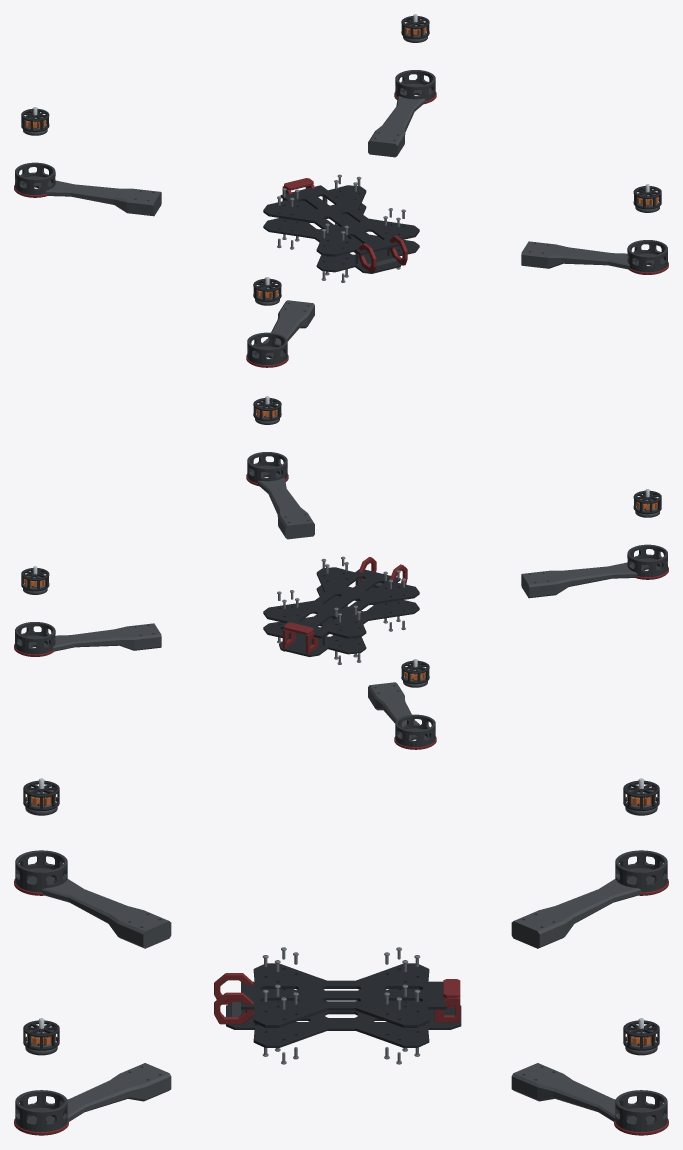
Rendered from aster450_esc_assembly.glb.
3 views of the same model, one above another, from view 1: azimuth 30°, elevation 25°; view 2: azimuth 150°, elevation 25°; view 3: azimuth 270°, elevation 25° (orthographic). The views are drawn at different scales.
Visible parts, largest first — view 1: SmallQuad_TopPlate, SmallQuad_BottomPlate, SmallQuad_Arm_04, SmallQuad_Arm_02, SmallQuad_Arm_03, SmallQuad_Arm_01, SmallQuad_MotorHousing_01, SmallQuad_MotorHousing_02, SmallQuad_MotorHousing_04, SmallQuad_MotorHousing_03; view 2: SmallQuad_TopPlate, SmallQuad_BottomPlate, SmallQuad_Arm_01, SmallQuad_Arm_03, SmallQuad_Arm_02, SmallQuad_Arm_04, SmallQuad_MotorHousing_04, SmallQuad_MotorHousing_03, SmallQuad_MotorHousing_01, SmallQuad_MotorHousing_02; view 3: SmallQuad_TopPlate, SmallQuad_BottomPlate, SmallQuad_Arm_01, SmallQuad_Arm_04, SmallQuad_Arm_02, SmallQuad_Arm_03, SmallQuad_MotorHousing_02, SmallQuad_MotorHousing_03, SmallQuad_MotorHousing_01, SmallQuad_MotorHousing_04, SmallQuad_CameraBracket_Right.
Part boxes in pixels (x1=…): SmallQuad_TopPlate: x1=263, y1=185, x2=419, y2=256; SmallQuad_BottomPlate: x1=263, y1=201, x2=419, y2=273; SmallQuad_Arm_04: x1=45, y1=180, x2=161, y2=216; SmallQuad_Arm_02: x1=521, y1=241, x2=629, y2=269; SmallQuad_Arm_03: x1=368, y1=96, x2=425, y2=157; SmallQuad_Arm_01: x1=263, y1=300, x2=314, y2=344; SmallQuad_MotorHousing_01: x1=247, y1=332, x2=287, y2=367; SmallQuad_MotorHousing_02: x1=627, y1=240, x2=667, y2=274; SmallQuad_MotorHousing_04: x1=15, y1=162, x2=55, y2=197; SmallQuad_MotorHousing_03: x1=395, y1=70, x2=435, y2=100; SmallQuad_TopPlate: x1=263, y1=567, x2=419, y2=638; SmallQuad_BottomPlate: x1=263, y1=585, x2=419, y2=656; SmallQuad_Arm_01: x1=521, y1=562, x2=637, y2=598; SmallQuad_Arm_03: x1=53, y1=623, x2=161, y2=651; SmallQuad_Arm_02: x1=257, y1=478, x2=314, y2=539; SmallQuad_Arm_04: x1=368, y1=682, x2=419, y2=726; SmallQuad_MotorHousing_04: x1=395, y1=714, x2=435, y2=749; SmallQuad_MotorHousing_03: x1=15, y1=622, x2=55, y2=656; SmallQuad_MotorHousing_01: x1=627, y1=544, x2=667, y2=579; SmallQuad_MotorHousing_02: x1=247, y1=452, x2=287, y2=482; SmallQuad_TopPlate: x1=241, y1=963, x2=446, y2=1027; SmallQuad_BottomPlate: x1=226, y1=989, x2=461, y2=1047; SmallQuad_Arm_01: x1=41, y1=878, x2=171, y2=948; SmallQuad_Arm_04: x1=511, y1=878, x2=641, y2=948; SmallQuad_Arm_02: x1=52, y1=1063, x2=171, y2=1121; SmallQuad_Arm_03: x1=511, y1=1063, x2=630, y2=1121; SmallQuad_MotorHousing_02: x1=15, y1=1090, x2=67, y2=1135; SmallQuad_MotorHousing_03: x1=615, y1=1090, x2=667, y2=1135; SmallQuad_MotorHousing_01: x1=15, y1=850, x2=67, y2=895; SmallQuad_MotorHousing_04: x1=615, y1=850, x2=667, y2=895; SmallQuad_CameraBracket_Right: x1=214, y1=992, x2=253, y2=1024.
Size of what is drawn, in the model's own units: 0.5811 by 0.1437 by 0.6117.
